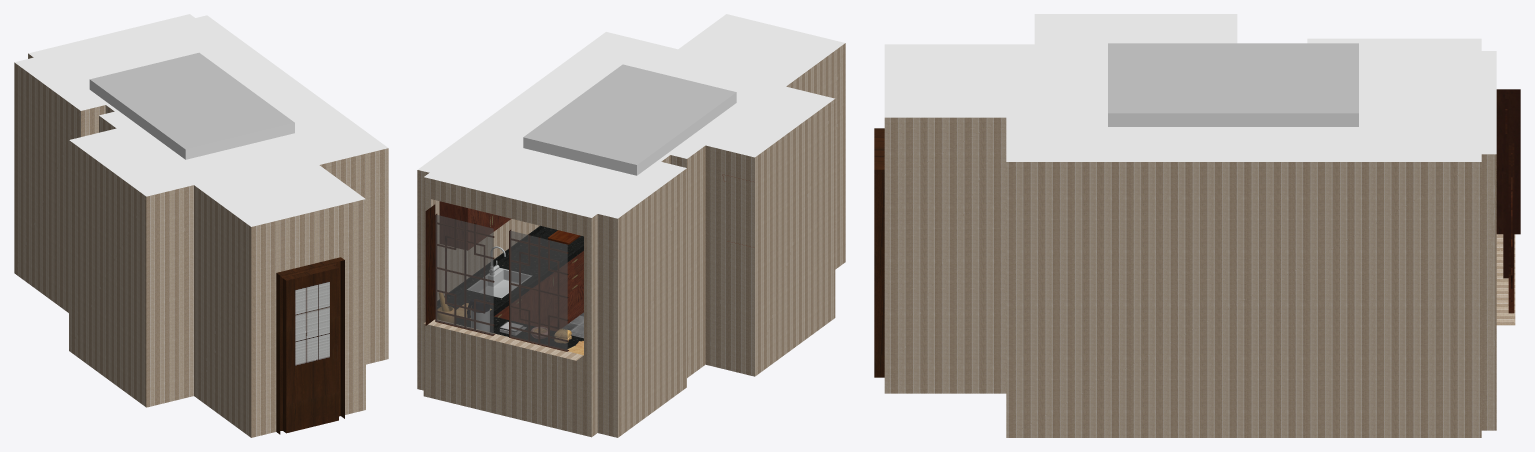
Rendered from chufang.fbx.
3 renders of one model, left to right at view 1: azimuth 30°, elevation 25°; view 2: azimuth 150°, elevation 25°; view 3: azimuth 270°, elevation 25°, orthographic. The views are drawn at different scales.
Parts seen in each view (by area): view 1: chufangqiang_d, baituliao01, men; view 2: chufangqiang_d, baituliao01, boli001, muwen, chugui05, chugui01, chugui03, shuichi, shuihu; view 3: chufangqiang_d, baituliao01, muwen, men.
Part boxes in pixels (box(x1,y1,x2,y2)): chufangqiang_d: box(14, 53, 388, 437); baituliao01: box(15, 14, 388, 226); men: box(276, 257, 344, 434); chufangqiang_d: box(417, 43, 845, 437); baituliao01: box(418, 14, 844, 218); boli001: box(435, 214, 567, 350); muwen: box(425, 204, 568, 351); chugui05: box(437, 225, 583, 349); chugui01: box(494, 174, 753, 331); chugui03: box(439, 201, 511, 250); shuichi: box(467, 246, 531, 298); shuihu: box(467, 299, 490, 332); chufangqiang_d: box(884, 117, 1515, 437); baituliao01: box(884, 14, 1496, 161); muwen: box(1496, 89, 1520, 313); men: box(874, 128, 884, 377).
Size of the model in its own units: 3.2 by 2.92 by 5.91.
